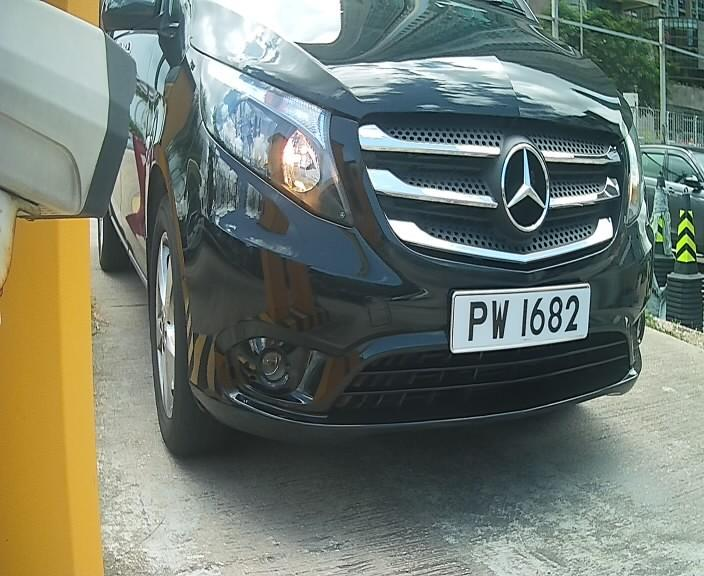Car: (73, 8, 686, 497)
License Plate: (444, 276, 595, 358)
